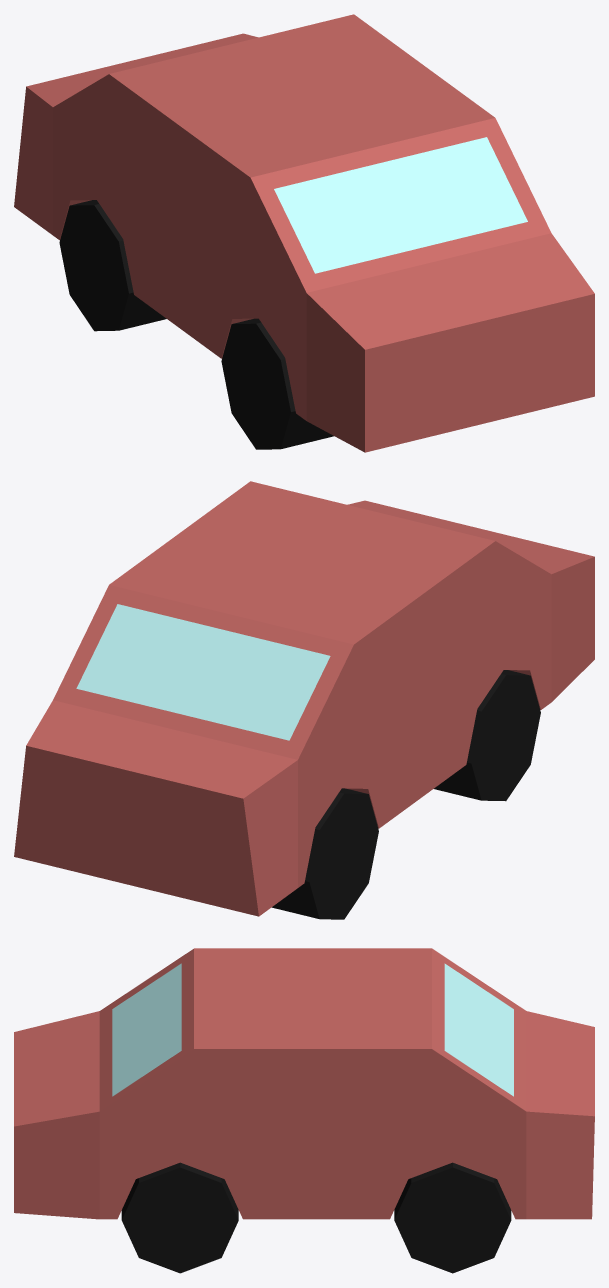
The model's file is instagram.glb.
3 renders of one model, top to bottom at view 1: azimuth 30°, elevation 25°; view 2: azimuth 150°, elevation 25°; view 3: azimuth 270°, elevation 25°, orthographic. The views are drawn at different scales.
Parts seen in each view (by area): view 1: Cube; view 2: Cube; view 3: Cube.
Part boxes in pixels (x1=…): Cube: x1=14, y1=14, x2=594, y2=452; Cube: x1=14, y1=481, x2=594, y2=919; Cube: x1=14, y1=948, x2=594, y2=1273.
Bounding box in the file's own units: 2.04 × 2.07 × 4.88.
Materials: 1 (1 with a texture image).
